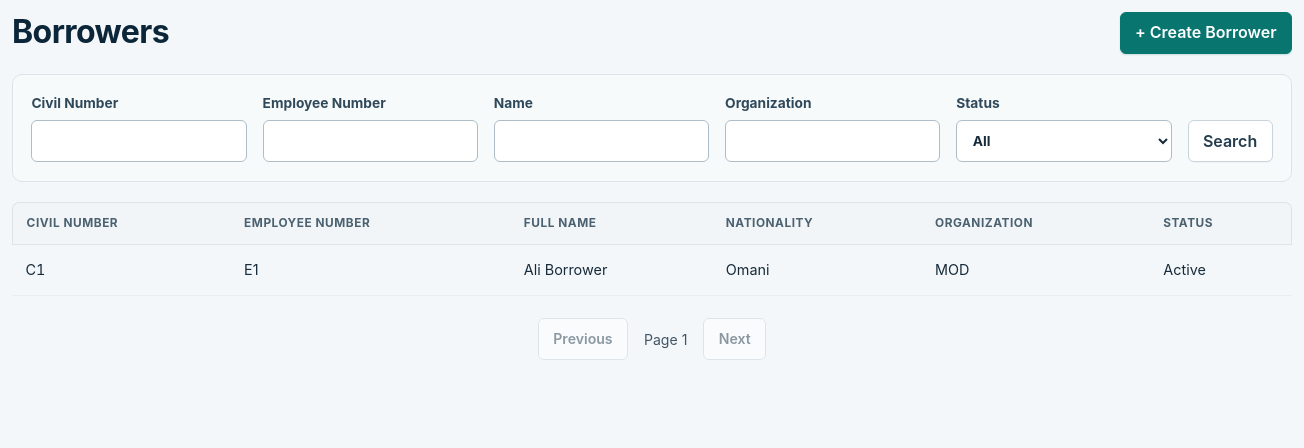
Test: shows duplicate civil number and concurrency errors
Expected: the text "Ali Borrower" is shown, x1=510 y1=245 x2=712 y2=296
Click the button "+ Create Borrower" at (1206, 33), box x1=1120 y1=12 x2=1292 y2=54
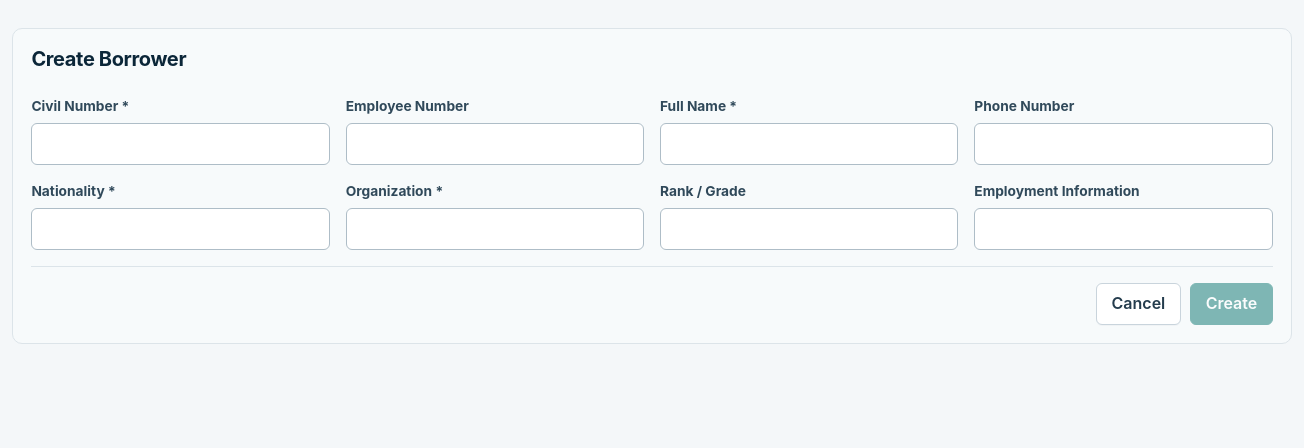
Type "C1" into the field labelled "Civil Number *" at (181, 144), box x1=31 y1=123 x2=330 y2=165
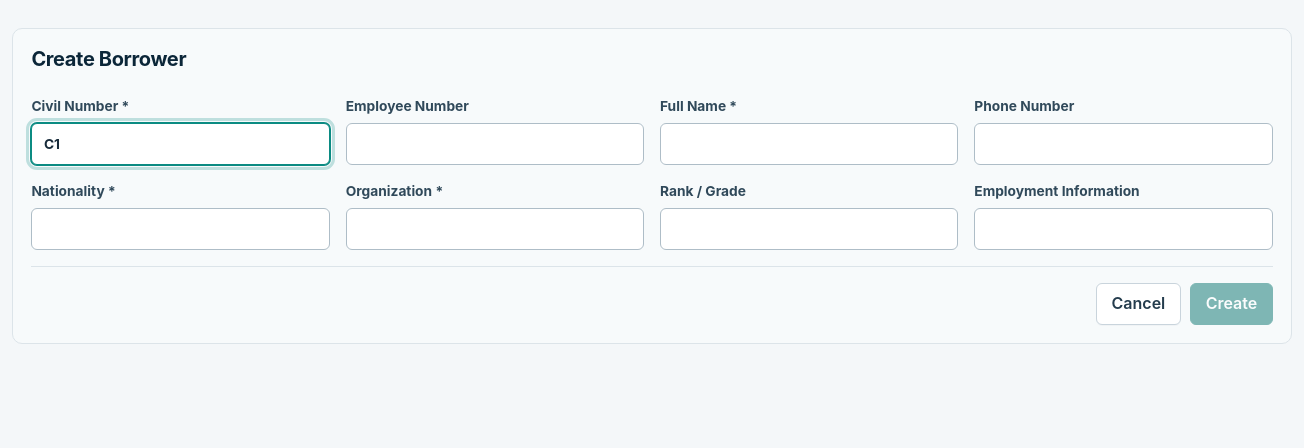
Type "New" into the field labelled "Full Name *" at (809, 144), box x1=660 y1=123 x2=958 y2=165
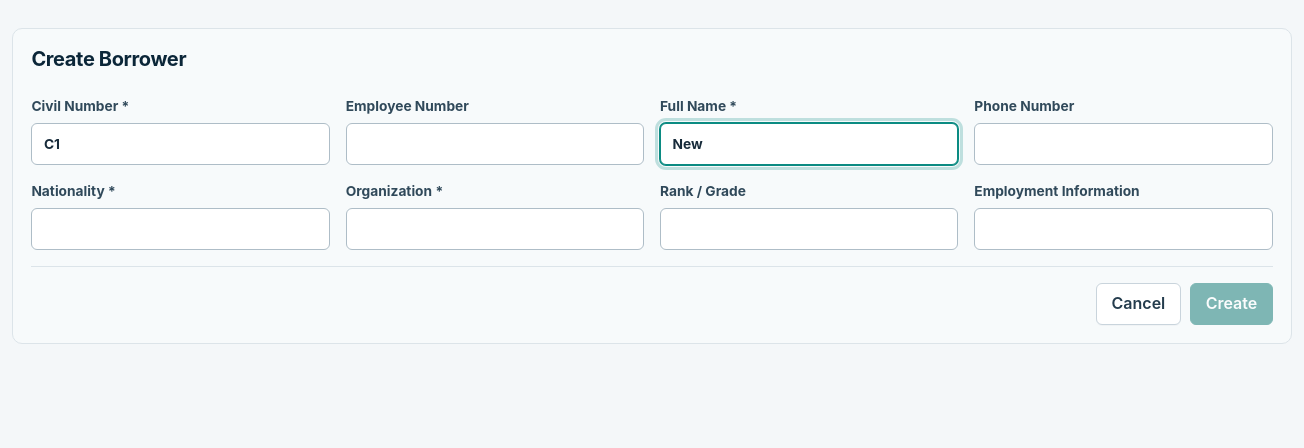
Type "Omani" into the field labelled "Nationality *" at (181, 229), box x1=31 y1=208 x2=330 y2=250
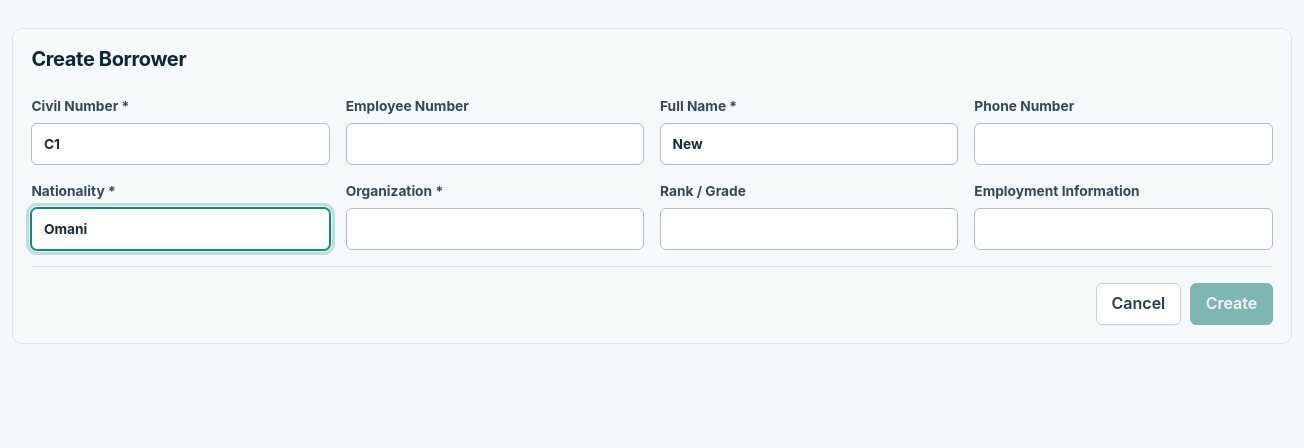
Type "MOD" into the field labelled "Organization *" at (495, 229), box x1=346 y1=208 x2=644 y2=250
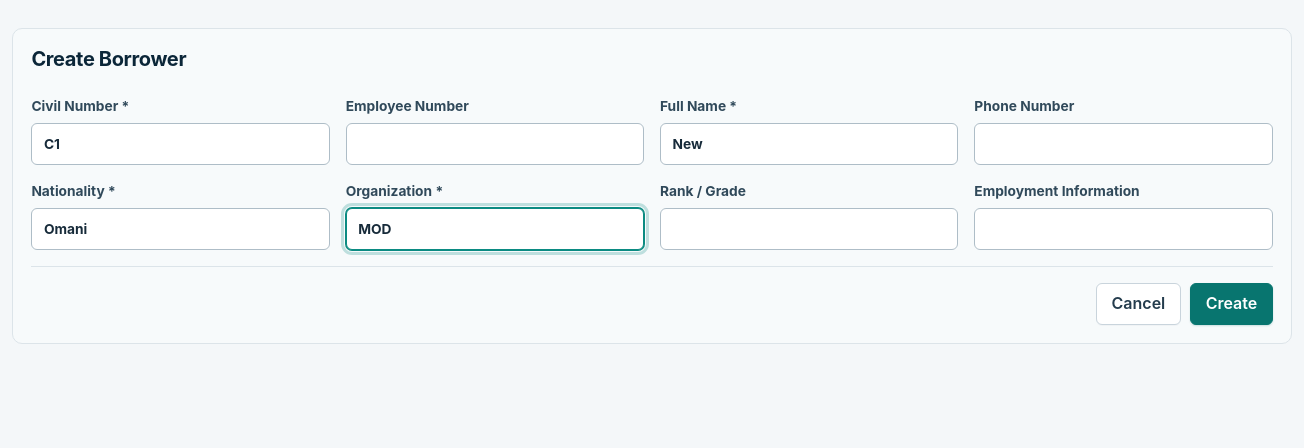
Click the button "Create" at (1231, 304), box x1=1190 y1=283 x2=1273 y2=325
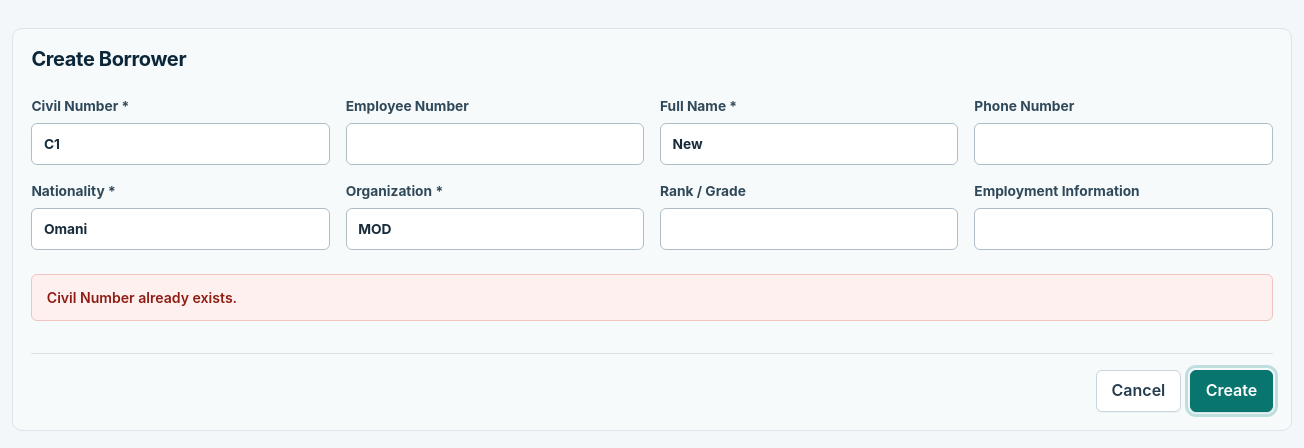
Expected: the message shows "already exists", x1=47 y1=289 x2=237 y2=306
